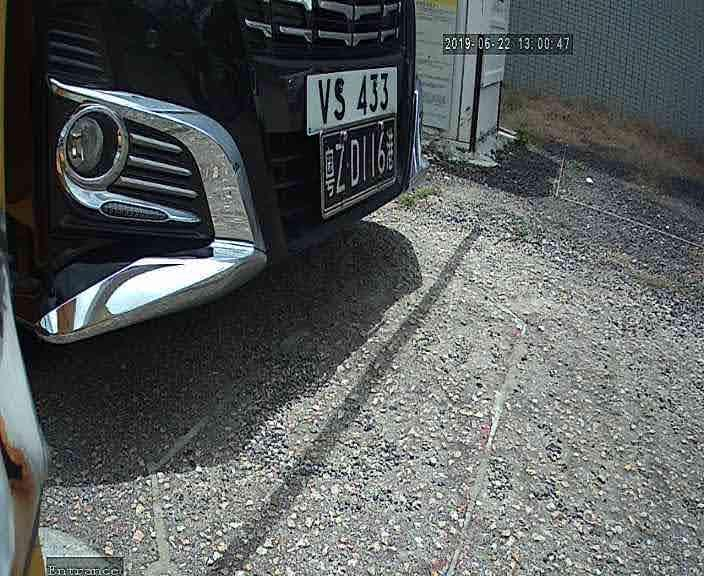bottom_left_lp: (304, 130, 314, 138)
bottom_right_lp: (393, 108, 400, 116)
top_left_lp: (301, 72, 313, 83)
top_right_lp: (390, 62, 401, 72)
